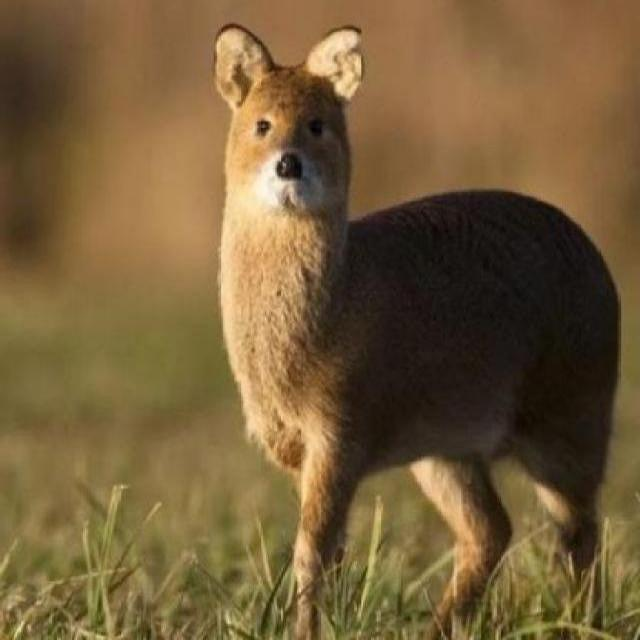deer: (209, 20, 629, 639)
